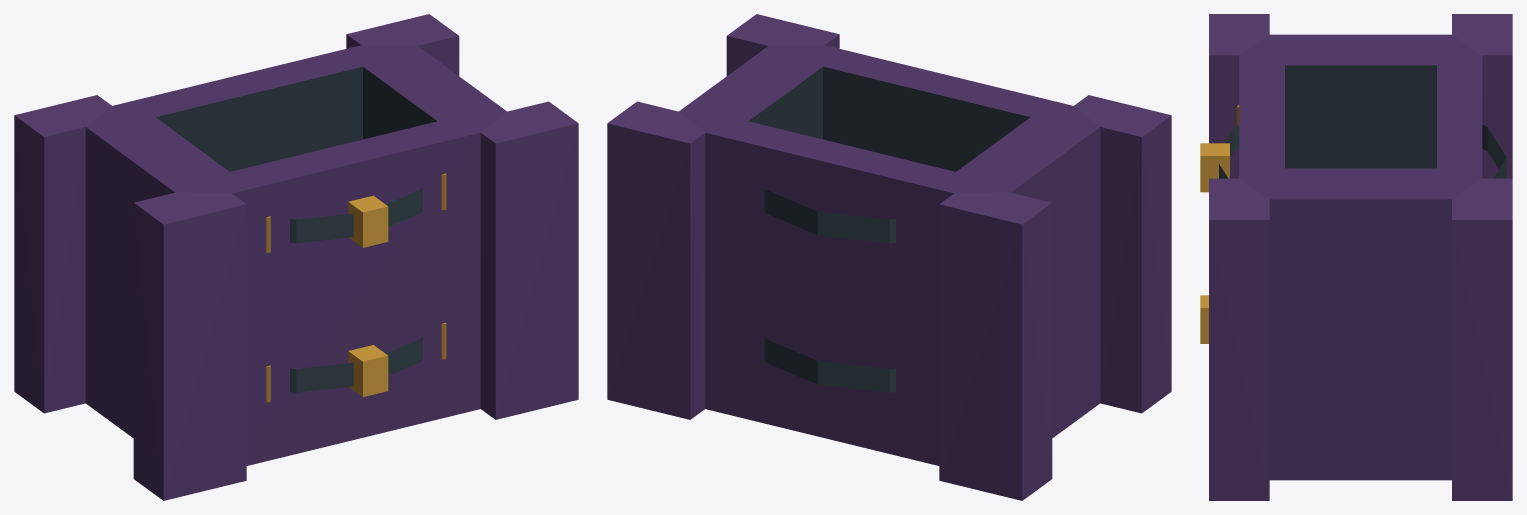
The model's file is dock-chest-lilac.glb.
3 renders of one model, left to right at view 1: azimuth 30°, elevation 25°; view 2: azimuth 150°, elevation 25°; view 3: azimuth 270°, elevation 25°, orthographic.
Visible parts, largest first — view 1: dock-chest-lilac; view 2: dock-chest-lilac; view 3: dock-chest-lilac.
Boxes of the visible parts, x1,y1,x2,y2 form: dock-chest-lilac: (14, 14, 578, 500); dock-chest-lilac: (607, 14, 1171, 500); dock-chest-lilac: (1200, 14, 1512, 500).
Bounding box in the file's own units: 0.77 × 0.49 × 0.4939.
